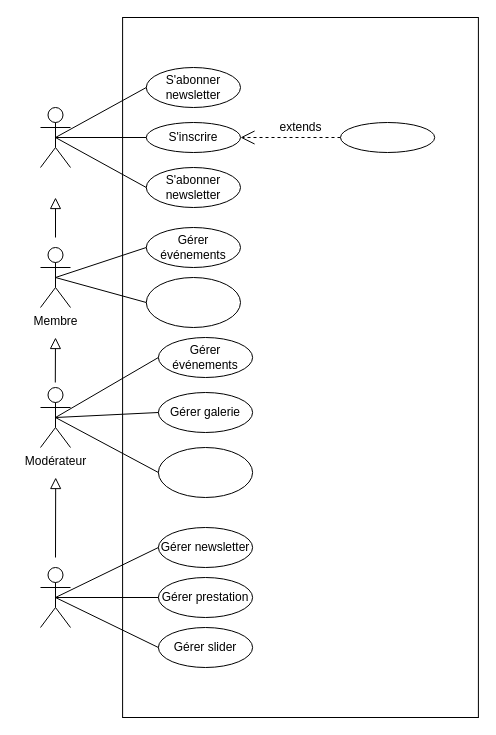
This 496x735 diagram has some shape labels left out. Each missing label, with the centre of its shape:
"Administrateur" belongs at pixel 55 597.
"Envoi image dans la galerie" belongs at pixel 192 302.
"Publier événements" belongs at pixel 205 472.
"Se connecter" belongs at pixel 387 137.
"Visiteur" belongs at pixel 55 137.
